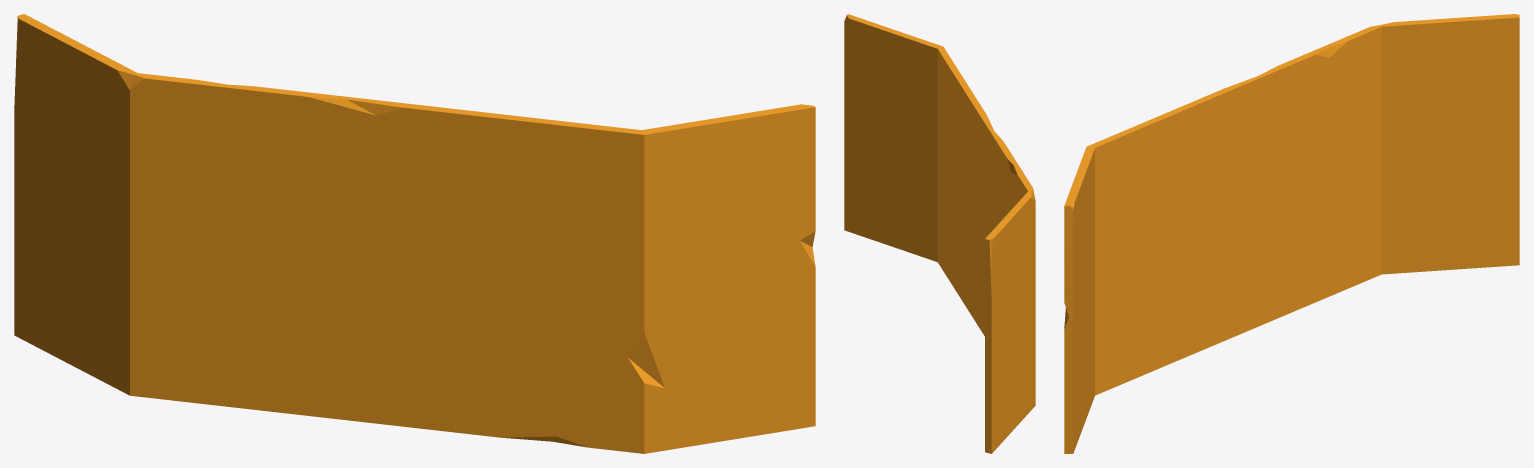
The model's file is SM_Buildings_WallChamfered_5x5_01P.fbx.
3 views of the same model, side by side, from view 1: azimuth 30°, elevation 25°; view 2: azimuth 150°, elevation 25°; view 3: azimuth 270°, elevation 25° (orthographic). The views are drawn at different scales.
Parts seen in each view (by area): view 1: SM_Buildings_WallChamfered_5x5_01P; view 2: SM_Buildings_WallChamfered_5x5_01P; view 3: SM_Buildings_WallChamfered_5x5_01P.
Boxes of the visible parts, box(x1,y1,x2,y2) form: SM_Buildings_WallChamfered_5x5_01P: box(14, 14, 815, 453); SM_Buildings_WallChamfered_5x5_01P: box(844, 14, 1035, 453); SM_Buildings_WallChamfered_5x5_01P: box(1064, 14, 1519, 453).
Bounding box in the file's own units: 500 × 300 × 500.
